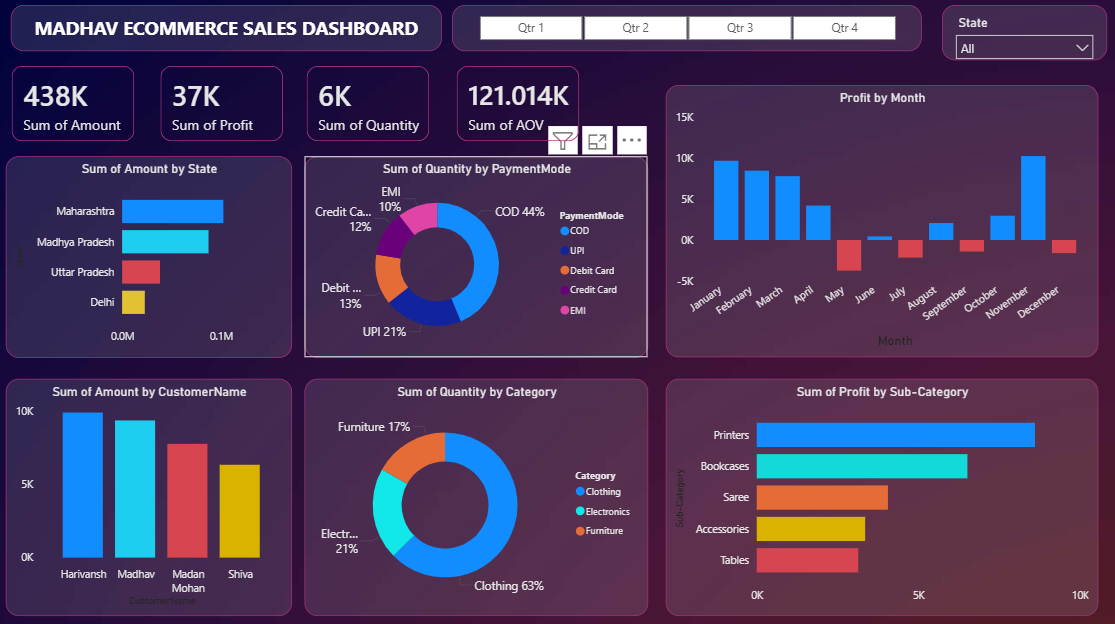

Layout of this report page (visuals, bound fields, positions):
{"tool":"powerbi","page":{"name":"Page 1","canvas":[1280,720],"ordinal":0},"visuals":[{"type":"textbox","box":[15.7,11.4,492.9,52.9],"z":0},{"type":"lineStackedColumnComboChart","title":"Profit by Month","fields":{"Category":["Orders.Order Date.Variation.Date Hierarchy.Month"],"Y":["Sum(Details.Profit)"]},"box":[764.3,102.9,494.3,311.4],"z":1000},{"type":"barChart","fields":{"Category":["Details.Sub-Category"],"Y":["Sum(Details.Profit)"]},"box":[764.3,438.6,494.3,271.4],"z":2000},{"type":"donutChart","fields":{"Category":["Details.Category"],"Y":["Sum(Details.Quantity)"]},"box":[351.4,438.6,392.9,271.4],"z":3000},{"type":"donutChart","fields":{"Y":["Sum(Details.Quantity)"],"Category":["Details.PaymentMode"]},"box":[351.4,184.3,392.9,230],"z":4000},{"type":"cardVisual","fields":{"Data":["Sum(Details.Amount)"]},"box":[0,64.3,235.7,120],"z":5000},{"type":"cardVisual","fields":{"Data":["Sum(Details.Profit)"]},"box":[170,64.3,234.3,120],"z":6000},{"type":"cardVisual","fields":{"Data":["Sum(Details.Quantity)"]},"box":[337.1,64.3,235.7,120],"z":7000},{"type":"cardVisual","fields":{"Data":["Sum(Details.AOV)"]},"box":[508.6,64.3,235.7,120],"z":8000},{"type":"barChart","fields":{"Category":["Orders.State"],"Y":["Sum(Details.Amount)"]},"box":[10,184.3,327.1,230],"z":9000},{"type":"columnChart","fields":{"Category":["Orders.CustomerName"],"Y":["Sum(Details.Amount)"]},"box":[10,439,327,271],"z":10000},{"type":"slicer","fields":{"Values":["Orders.Order Date.Variation.Date Hierarchy.Quarter"]},"box":[520,11.4,537.1,52.9],"z":11000},{"type":"slicer","fields":{"Values":["Orders.State"]},"box":[1080,11.4,188.6,62.9],"z":12000}]}

Visuals, with their boxes in screenshot pixels (x1, y1, x2, y2), scaled from the page's 1280x720 canvas onto the 1115x624 screenshot:
textbox: 14/10/443/56
"Profit by Month" lineStackedColumnComboChart: 666/89/1096/359
barChart - Details.Sub-Category x Sum(Details.Profit): 666/380/1096/615
donutChart - Details.Category x Sum(Details.Quantity): 306/380/648/615
donutChart - Sum(Details.Quantity) x Details.PaymentMode: 306/160/648/359
cardVisual - Sum(Details.Amount): 0/56/205/160
cardVisual - Sum(Details.Profit): 148/56/352/160
cardVisual - Sum(Details.Quantity): 294/56/499/160
cardVisual - Sum(Details.AOV): 443/56/648/160
barChart - Orders.State x Sum(Details.Amount): 9/160/294/359
columnChart - Orders.CustomerName x Sum(Details.Amount): 9/380/294/615
slicer - Orders.Order Date.Variation.Date Hierarchy.Quarter: 453/10/921/56
slicer - Orders.State: 941/10/1105/64
